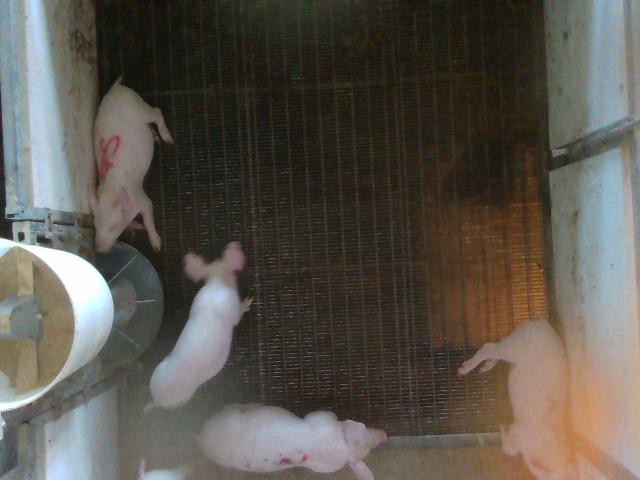pig-2: (459, 319, 576, 479)
pig-3: (196, 404, 386, 479)
pig-5: (89, 76, 174, 252)
